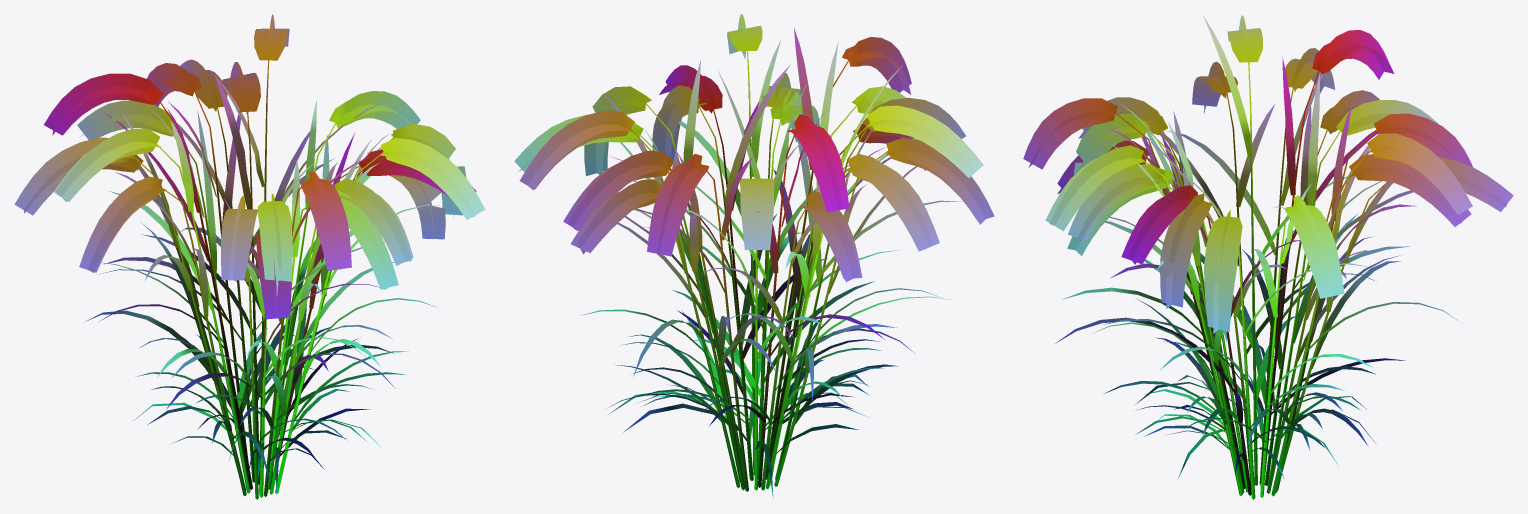
File: Rice_Ripe_A_HD.fbx
The picture shows the model from 3 angles, left to right: view 1: azimuth 30°, elevation 25°; view 2: azimuth 150°, elevation 25°; view 3: azimuth 270°, elevation 25°; orthographic projection. The views are drawn at different scales.
Parts seen in each view (by area): view 1: Rice_Ripe_A_HD_LOD0; view 2: Rice_Ripe_A_HD_LOD0; view 3: Rice_Ripe_A_HD_LOD0.
Boxes of the visible parts, <box> form: Rice_Ripe_A_HD_LOD0: <box>14,14,485,499</box>; Rice_Ripe_A_HD_LOD0: <box>514,14,994,497</box>; Rice_Ripe_A_HD_LOD0: <box>1023,15,1513,499</box>.
Size of what is drawn, in the model's own units: 1.04 by 1.01 by 1.07.
